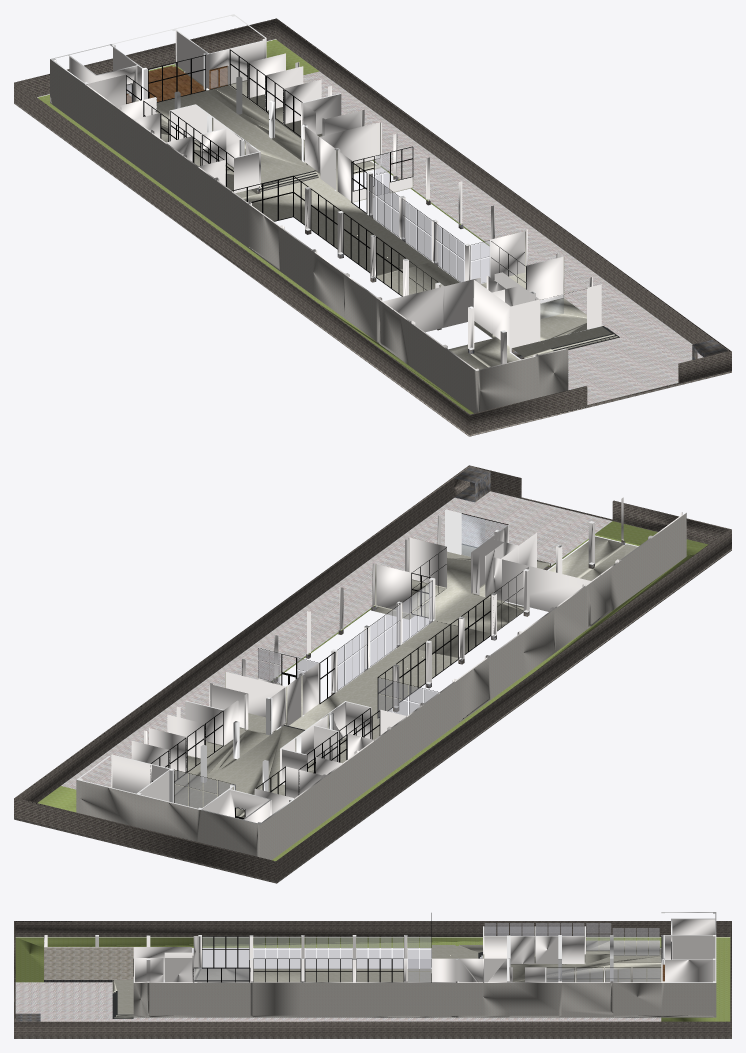
Rendered from Plot 200-27- Ground Only.glb.
3 views of the same model, one above another, from view 1: azimuth 30°, elevation 25°; view 2: azimuth 150°, elevation 25°; view 3: azimuth 270°, elevation 25° (orthographic). The views are drawn at different scales.
Parts seen in each view (by area): view 1: Model, Group1, Group2; view 2: Model, Group8, Group13, Group1, Group2, Group12; view 3: Model, Group3, Group4, Group9, Group5, Group18, Group10, Group6, Group19, Group14, Group15, Group7 (+8 smaller).
Part boxes in pixels (x1,y1,x2,y2): Model: [14, 14, 731, 436]; Group1: [401, 198, 431, 260]; Group2: [369, 174, 399, 236]; Model: [14, 465, 731, 883]; Group8: [378, 677, 438, 718]; Group13: [174, 769, 230, 808]; Group1: [370, 604, 400, 666]; Group2: [337, 628, 367, 690]; Group12: [258, 648, 280, 683]; Model: [14, 912, 731, 1038]; Group3: [202, 936, 249, 968]; Group4: [253, 936, 300, 968]; Group9: [305, 936, 352, 968]; Group5: [356, 936, 403, 968]; Group18: [612, 928, 659, 955]; Group10: [193, 967, 249, 982]; Group6: [408, 936, 431, 968]; Group19: [586, 923, 611, 950]; Group14: [484, 923, 533, 935]; Group15: [536, 923, 584, 935]; Group7: [408, 959, 431, 982].
Size of the model in its own units: 100 by 16.5 by 300.
16 materials, 11 textured.
